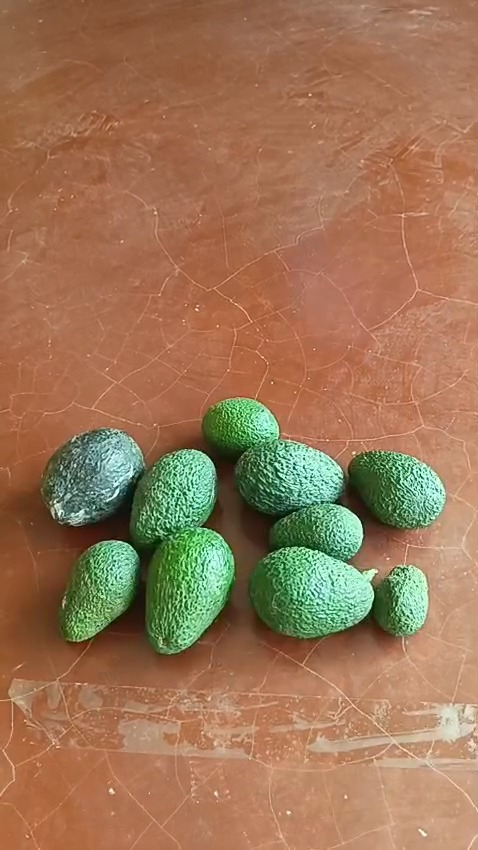Primera: (144, 525, 237, 654), (248, 548, 374, 638), (39, 429, 144, 527), (132, 450, 220, 552), (234, 438, 347, 517), (347, 451, 445, 531)
Segunda: (57, 540, 140, 643), (269, 504, 364, 562), (202, 398, 279, 459)
Tercera: (372, 564, 431, 637)
